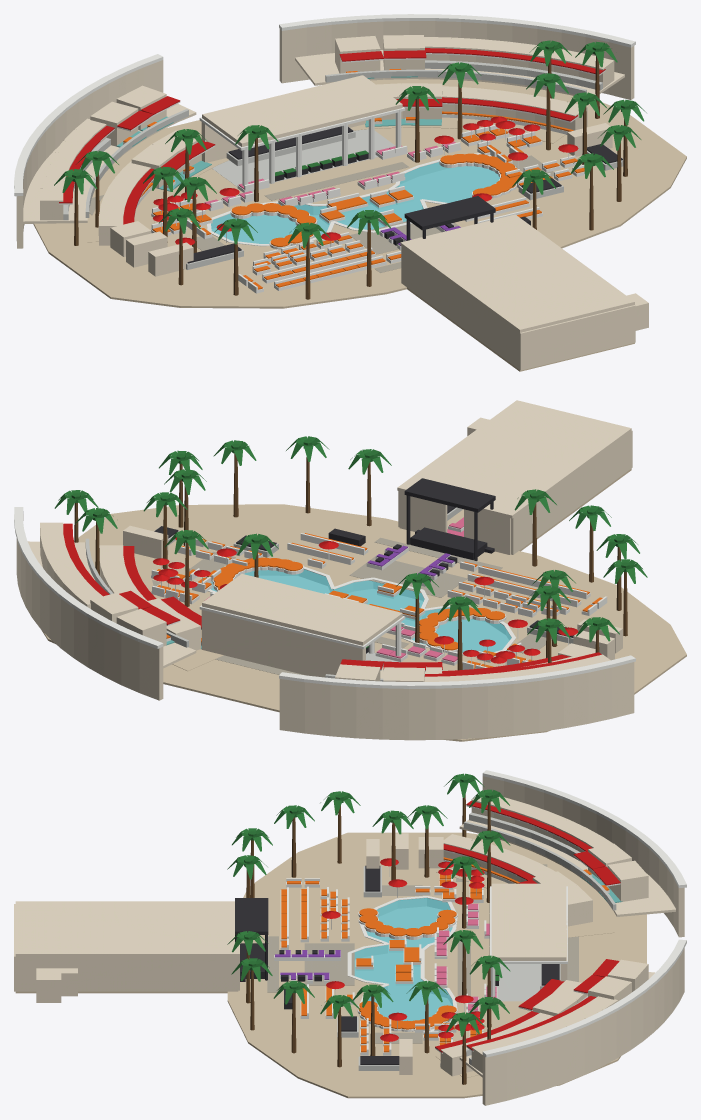
The model's file is encore-beach-club-uncompressed.glb.
3 renders of one model, top to bottom at view 1: azimuth 30°, elevation 25°; view 2: azimuth 150°, elevation 25°; view 3: azimuth 270°, elevation 25°, orthographic. The views are drawn at different scales.
Parts seen in each view (by area): view 1: Deck, Facade, Backstage_Roof, Backstage_Walls, Gaming_Roof, Terrace_Upper, Pool_Water, Pool_Basin, Gaming_Pavilion, Walkway_Paths, Terrace_Lower, Stage_Truss (+50 smaller); view 2: Facade, Deck, Backstage_Roof, Gaming_Roof, Backstage_Walls, Gaming_Pavilion, Pool_Water, Pool_Basin, Walkway_Paths, Stage_Truss, Terrace_Upper, Stage (+29 smaller); view 3: Deck, Facade, Backstage_Roof, Backstage_Walls, Gaming_Roof, Pool_Water, Pool_Basin, Walkway_Paths, Terrace_Upper, Gaming_Pavilion, T_6, Stage_Truss (+39 smaller).
Part boxes in pixels (bbox=[...]): Deck: bbox=[33, 79, 686, 308]; Facade: bbox=[14, 14, 635, 248]; Backstage_Roof: bbox=[400, 214, 634, 332]; Backstage_Walls: bbox=[401, 246, 648, 370]; Gaming_Roof: bbox=[199, 75, 405, 150]; Terrace_Upper: bbox=[23, 50, 624, 223]; Pool_Water: bbox=[211, 162, 499, 243]; Pool_Basin: bbox=[211, 162, 499, 243]; Gaming_Pavilion: bbox=[201, 108, 401, 186]; Walkway_Paths: bbox=[89, 135, 553, 272]; Terrace_Lower: bbox=[87, 117, 565, 242]; Stage_Truss: bbox=[404, 196, 495, 240]; Facade: bbox=[14, 507, 635, 740]; Deck: bbox=[41, 504, 686, 741]; Backstage_Roof: bbox=[397, 400, 631, 518]; Gaming_Roof: bbox=[199, 574, 405, 649]; Backstage_Walls: bbox=[398, 417, 632, 554]; Gaming_Pavilion: bbox=[201, 610, 401, 677]; Pool_Water: bbox=[210, 569, 511, 652]; Pool_Basin: bbox=[211, 569, 511, 652]; Walkway_Paths: bbox=[152, 537, 551, 675]; Stage_Truss: bbox=[404, 478, 495, 560]; Terrace_Upper: bbox=[27, 538, 383, 681]; Stage: bbox=[410, 527, 487, 560]; Deck: bbox=[227, 832, 646, 1098]; Facade: bbox=[482, 770, 686, 1105]; Backstage_Roof: bbox=[15, 901, 239, 956]; Backstage_Walls: bbox=[14, 904, 239, 1002]; Gaming_Roof: bbox=[490, 883, 567, 963]; Pool_Water: bbox=[354, 898, 452, 1020]; Pool_Basin: bbox=[355, 898, 452, 1020]; Walkway_Paths: bbox=[267, 864, 578, 1043]; Terrace_Upper: bbox=[459, 819, 675, 1077]; Gaming_Pavilion: bbox=[489, 888, 567, 1001]; T_6: bbox=[592, 860, 648, 902]; Stage_Truss: bbox=[235, 898, 268, 980].
Bounding box in the file's own units: 105 × 13.1 × 105.
2 materials, 1 textured.
